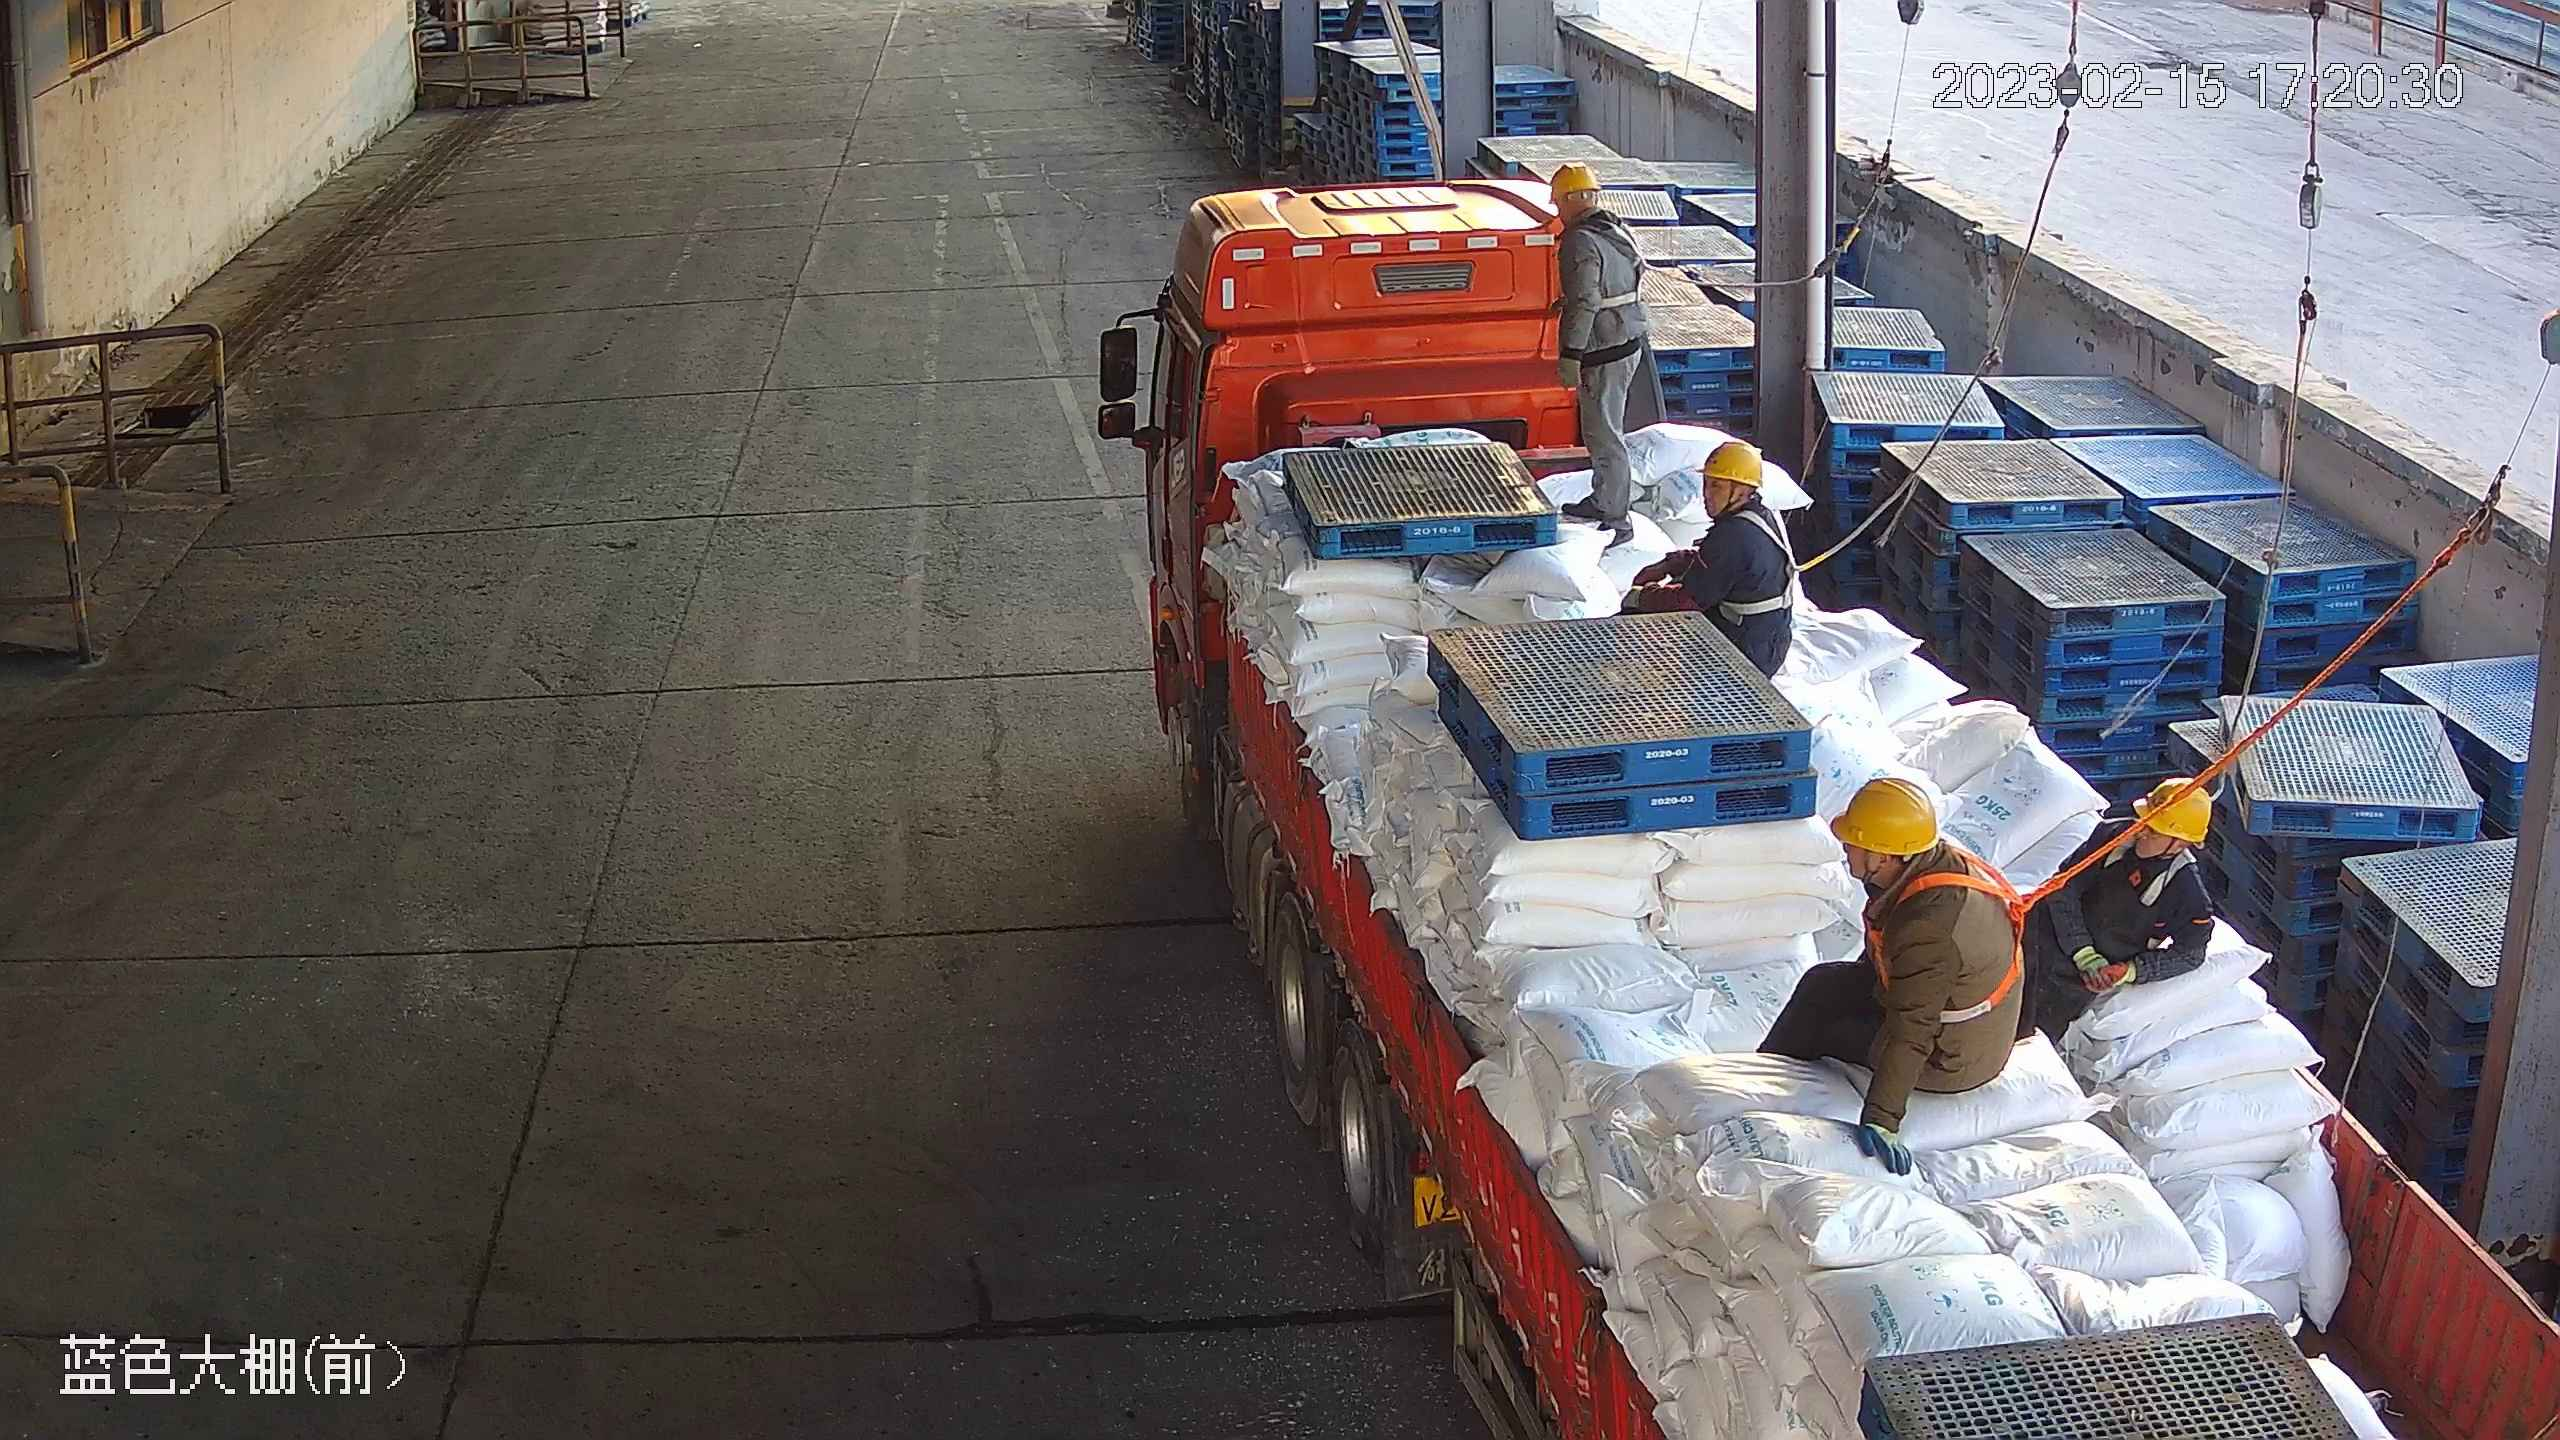belt: (1868, 862, 2044, 1019), (1722, 504, 1809, 625), (2099, 808, 2201, 910), (1596, 230, 1657, 310)
head: (1831, 775, 2027, 938), (2040, 777, 2220, 912), (1679, 446, 1801, 570), (1553, 167, 1648, 273)
helmet: (1829, 760, 1961, 869), (2135, 773, 2236, 841), (1698, 429, 1777, 491), (1549, 160, 1596, 204)
people: (1774, 771, 2044, 1175), (1536, 160, 1666, 534)
truck: (1101, 177, 2560, 1440)
